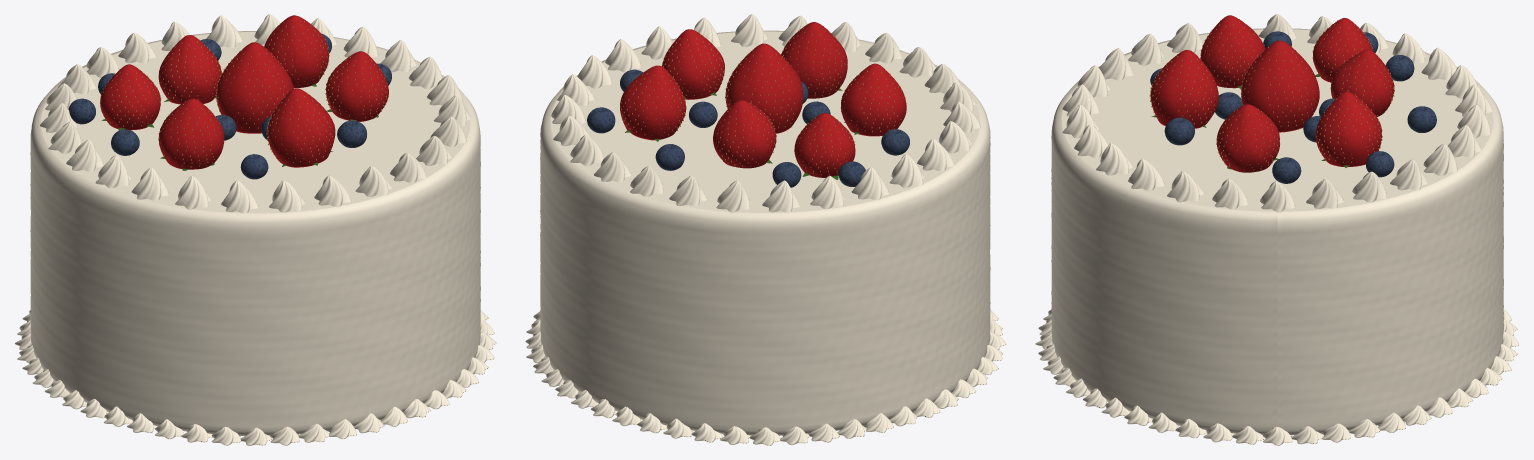
Rendered from 11_cake_only.glb.
3 renders of one model, left to right at view 1: azimuth 30°, elevation 25°; view 2: azimuth 150°, elevation 25°; view 3: azimuth 270°, elevation 25°, orthographic.
Visible parts, largest first — view 1: Spatula_Finished_Frosting, Dimpled_Skin (×7), Wax_Bloom_Skin (×4), Top_Cream_Piping_15, Top_Cream_Piping_16, Top_Cream_Piping_17, Top_Cream_Piping_14, Top_Cream_Piping_13, Top_Cream_Piping_18, Top_Cream_Piping_19, Top_Cream_Piping_07, Top_Cream_Piping_20 (+14 smaller); view 2: Spatula_Finished_Frosting, Dimpled_Skin (×7), Wax_Bloom_Skin (×6), Top_Cream_Piping_11, Top_Cream_Piping_25, Top_Cream_Piping_12, Top_Cream_Piping_10, Top_Cream_Piping_13, Top_Cream_Piping_09, Top_Cream_Piping_22, Top_Cream_Piping_08, Top_Cream_Piping_19 (+15 smaller); view 3: Spatula_Finished_Frosting, Dimpled_Skin (×7), Wax_Bloom_Skin (×5), Top_Cream_Piping_22, Top_Cream_Piping_23, Top_Cream_Piping_04, Top_Cream_Piping_03, Top_Cream_Piping_09, Top_Cream_Piping_16, Top_Cream_Piping_24, Top_Cream_Piping_25, Top_Cream_Piping_00 (+14 smaller).
Boxes of the visible parts, x1,y1,x2,y2 form: Spatula_Finished_Frosting: (30, 31, 480, 436); Dimpled_Skin (×7): (100, 15, 388, 169); Wax_Bloom_Skin (×4): (68, 99, 366, 179); Top_Cream_Piping_15: (131, 167, 168, 200); Top_Cream_Piping_16: (175, 176, 211, 209); Top_Cream_Piping_17: (221, 180, 258, 213); Top_Cream_Piping_14: (95, 155, 131, 188); Top_Cream_Piping_13: (66, 139, 103, 171); Top_Cream_Piping_18: (269, 180, 305, 212); Top_Cream_Piping_19: (314, 175, 351, 207); Top_Cream_Piping_07: (118, 32, 156, 63); Top_Cream_Piping_20: (355, 166, 392, 196); Spatula_Finished_Frosting: (540, 30, 990, 435); Dimpled_Skin (×7): (620, 22, 906, 177); Wax_Bloom_Skin (×6): (587, 102, 909, 187); Top_Cream_Piping_11: (851, 167, 889, 200); Top_Cream_Piping_25: (605, 39, 641, 72); Top_Cream_Piping_12: (889, 154, 924, 187); Top_Cream_Piping_10: (810, 176, 844, 209); Top_Cream_Piping_13: (917, 139, 954, 171); Top_Cream_Piping_09: (762, 180, 800, 212); Top_Cream_Piping_22: (731, 14, 767, 47); Top_Cream_Piping_08: (716, 180, 750, 212); Top_Cream_Piping_19: (865, 32, 901, 63); Spatula_Finished_Frosting: (1051, 28, 1503, 435); Dimpled_Skin (×7): (1150, 15, 1394, 172); Wax_Bloom_Skin (×5): (1164, 56, 1436, 183); Top_Cream_Piping_22: (1096, 143, 1133, 175); Top_Cream_Piping_23: (1128, 159, 1164, 190); Top_Cream_Piping_04: (1423, 143, 1457, 175); Top_Cream_Piping_03: (1390, 159, 1427, 190); Top_Cream_Piping_09: (1421, 47, 1456, 80); Top_Cream_Piping_16: (1128, 34, 1164, 65); Top_Cream_Piping_24: (1167, 171, 1204, 202); Top_Cream_Piping_25: (1212, 179, 1248, 209); Top_Cream_Piping_00: (1260, 181, 1295, 212).
Bounding box in the file's own units: 0.2176 × 0.15 × 0.2178.
6 materials, 2 textured.
